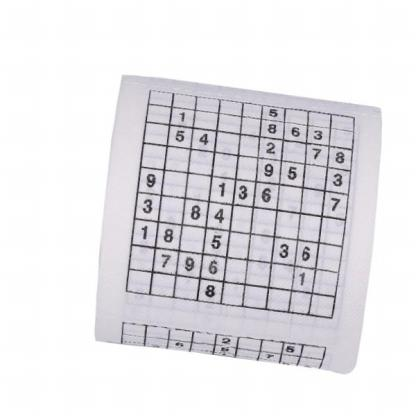sudoku: (123, 86, 358, 322)
